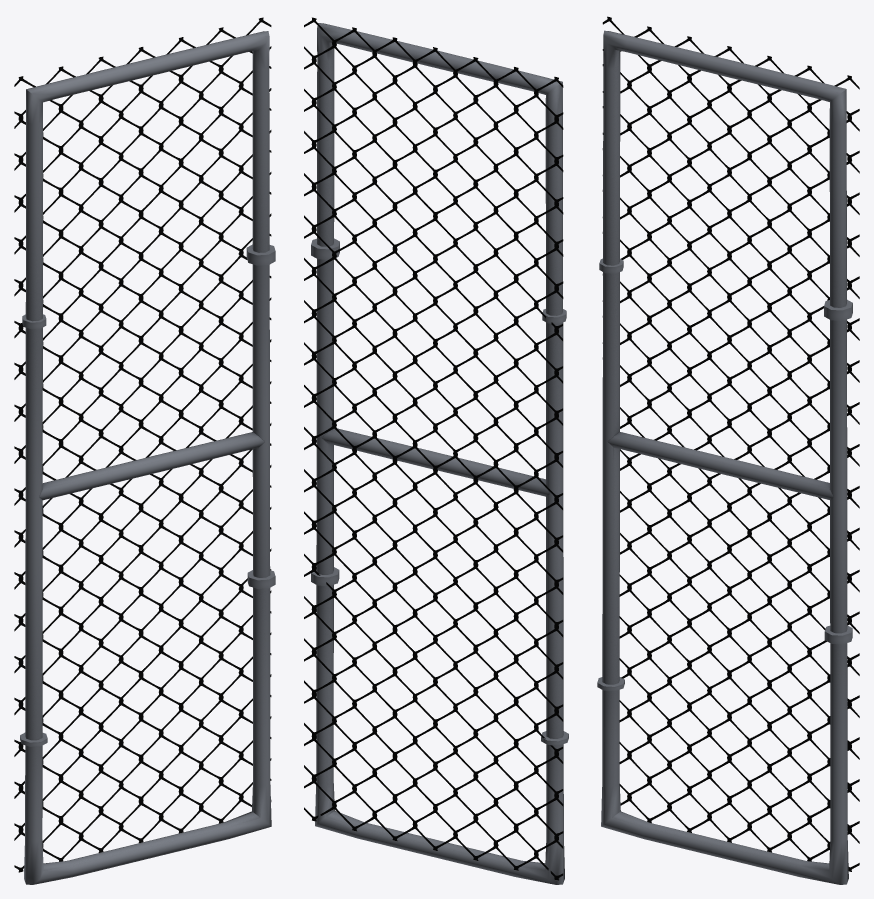
The model's file is chain_fence2.fbx.
The picture shows the model from 3 angles, left to right: view 1: azimuth 30°, elevation 25°; view 2: azimuth 150°, elevation 25°; view 3: azimuth 330°, elevation 25°; orthographic projection.
Visible parts, largest first — view 1: Cube.005; view 2: Cube.005; view 3: Cube.005.
Boxes of the visible parts, <box> form: Cube.005: <box>14,17,275,884</box>; Cube.005: <box>304,17,568,884</box>; Cube.005: <box>597,16,859,884</box>.
Bounding box in the file's own units: 500 × 1504 × 50.3.
